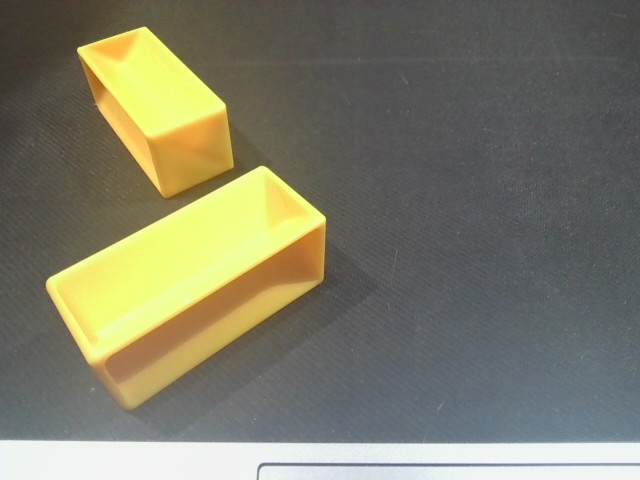YellowSample: (38, 158, 333, 414), (71, 23, 238, 199)
